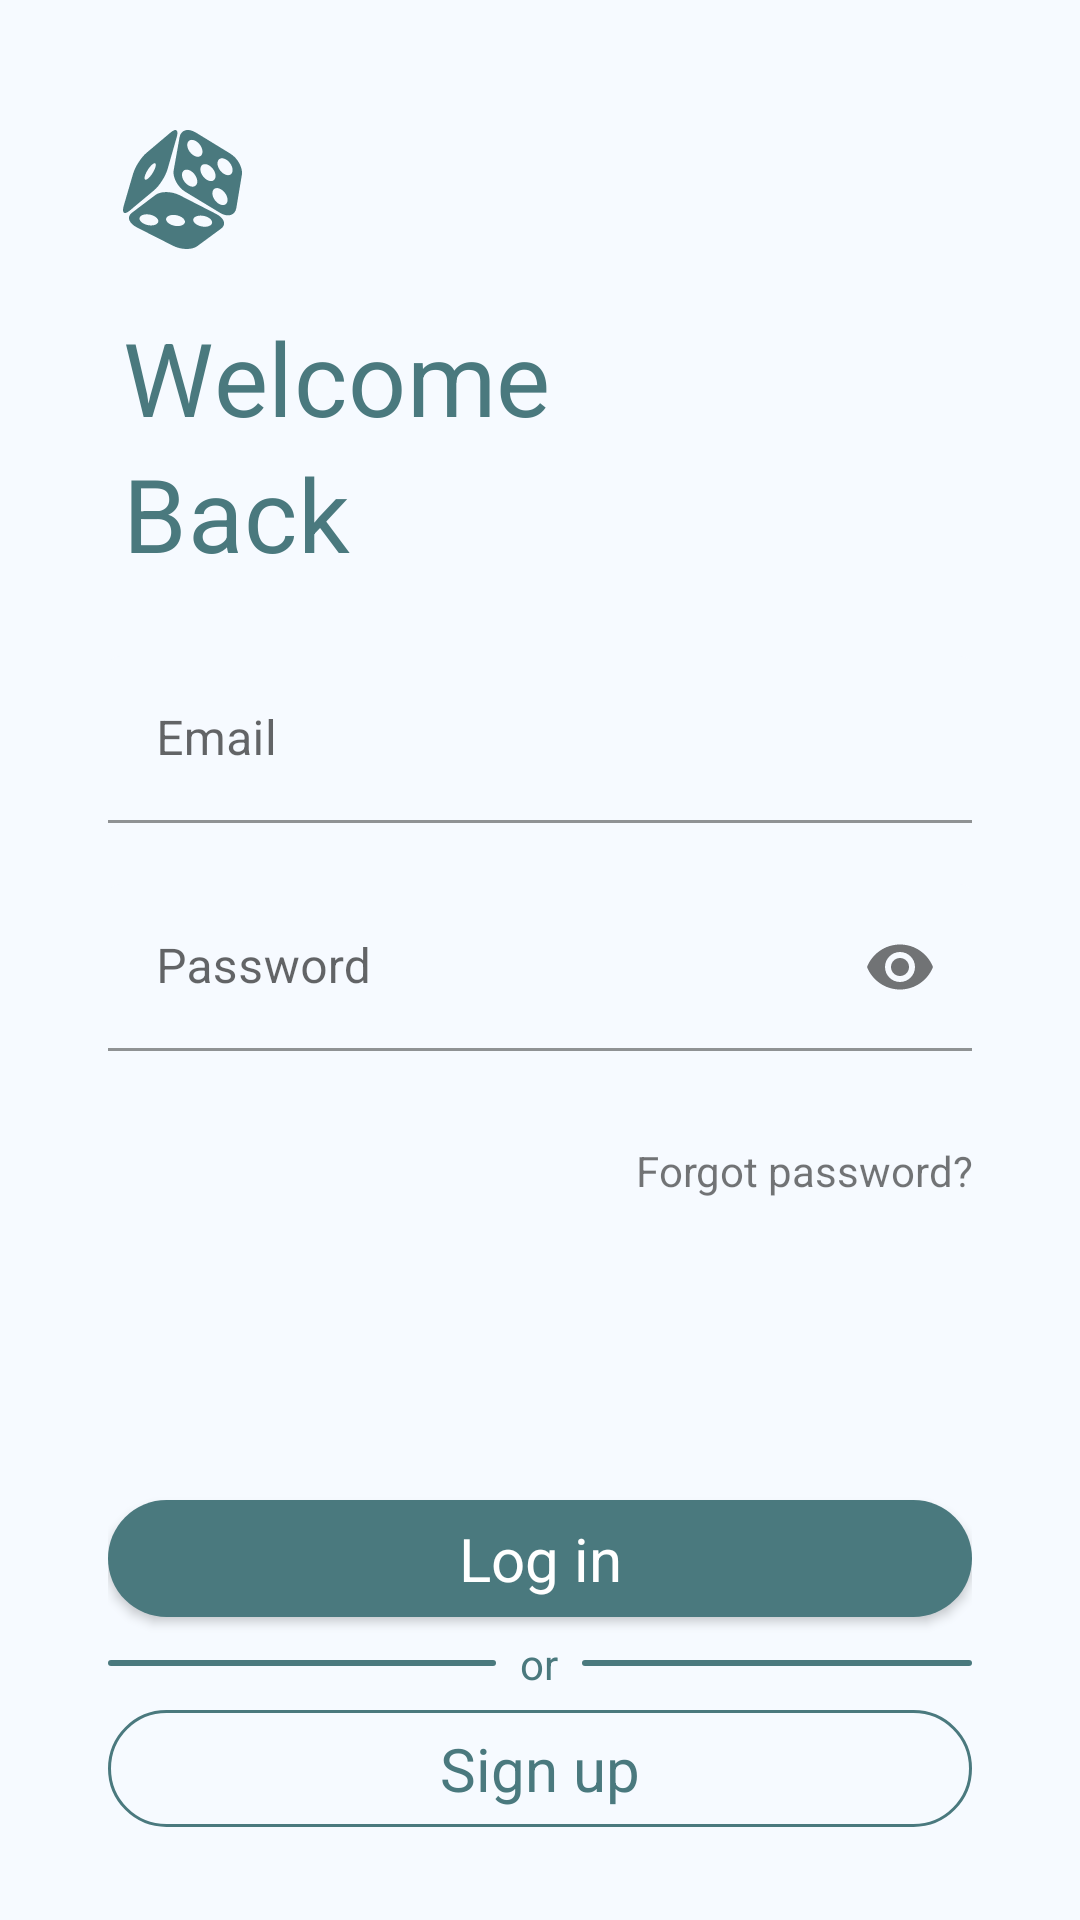

Icons on this 1080px×1920px Android screen, each with the point to tap as (x=x, y=y):
dice: (x=182, y=189)
